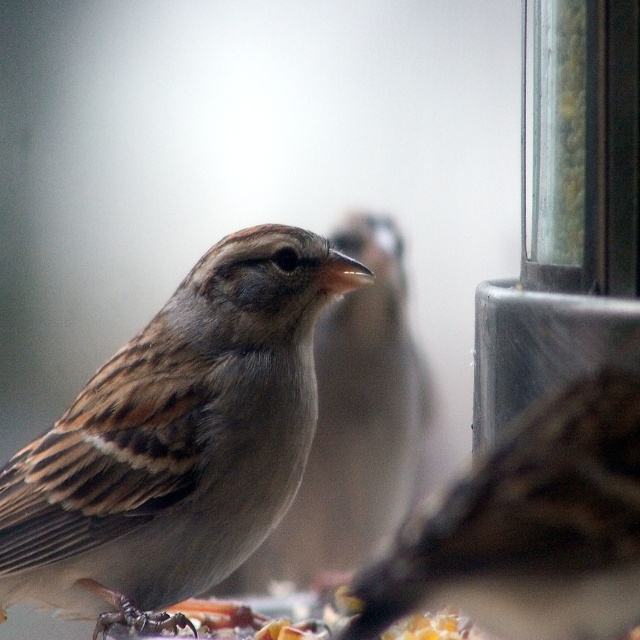Sparrow: (0, 220, 374, 639)
